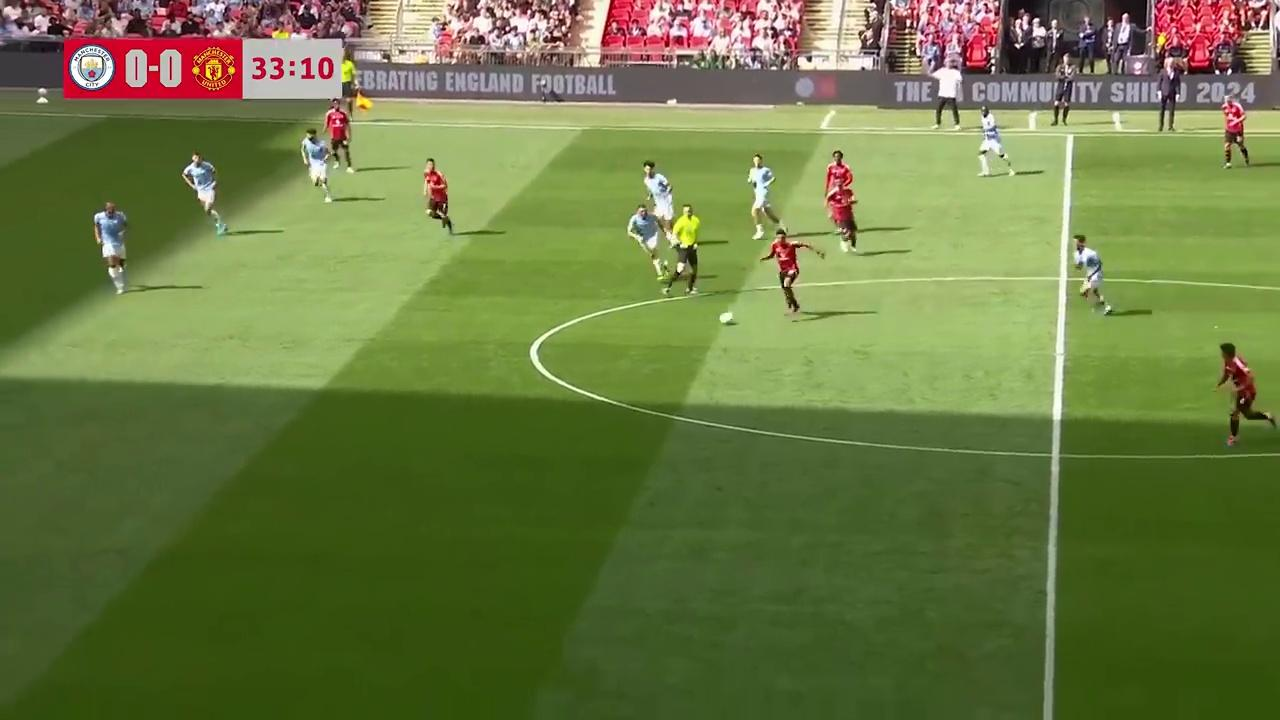ball: (717, 307, 735, 325)
player: (1215, 342, 1276, 446), (182, 151, 228, 232), (762, 229, 802, 319), (1071, 235, 1113, 316), (92, 200, 128, 293), (823, 149, 854, 240), (422, 158, 453, 236), (626, 203, 662, 269), (977, 109, 1012, 176), (747, 154, 775, 237), (300, 129, 332, 199), (1221, 96, 1251, 170), (830, 174, 858, 251), (323, 101, 353, 171), (642, 161, 673, 224)
referee: (662, 204, 701, 298), (336, 50, 364, 116)
